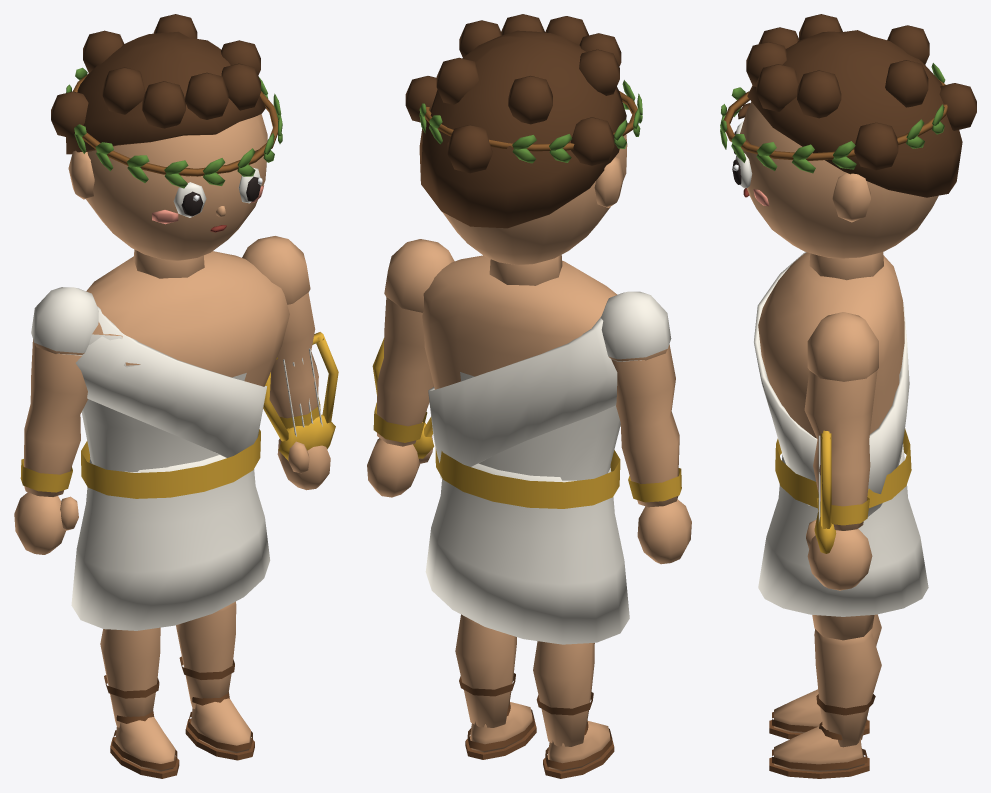
The model's file is orpheus.glb.
3 renders of one model, left to right at view 1: azimuth 30°, elevation 25°; view 2: azimuth 150°, elevation 25°; view 3: azimuth 270°, elevation 25°, orthographic. The views are drawn at different scales.
Visible parts, largest first — view 1: rumpf, huefte, haare, kopf, armL, armR, knieL, knieR, kopfschmuck, itemR, augeL, augeR; view 2: rumpf, haare, huefte, armL, armR, kopf, knieL, knieR, kopfschmuck, itemR; view 3: haare, rumpf, kopf, armR, huefte, knieR, kopfschmuck, knieL, itemR, beinR, augeR.
Boxes of the visible parts, left/top/right/bottom form: rumpf: left=75, top=251, right=289, bottom=498; huefte: left=71, top=455, right=270, bottom=630; haare: left=51, top=14, right=265, bottom=154; kopf: left=68, top=114, right=267, bottom=278; armL: left=14, top=287, right=98, bottom=554; armR: left=242, top=236, right=330, bottom=490; knieL: left=100, top=627, right=179, bottom=778; knieR: left=176, top=601, right=254, bottom=760; kopfschmuck: left=66, top=67, right=282, bottom=188; itemR: left=263, top=332, right=338, bottom=460; augeL: left=173, top=182, right=206, bottom=217; augeR: left=238, top=168, right=262, bottom=203; rumpf: left=422, top=255, right=620, bottom=508; haare: left=405, top=14, right=626, bottom=228; huefte: left=425, top=463, right=629, bottom=644; armL: left=601, top=291, right=691, bottom=564; armR: left=367, top=239, right=454, bottom=497; kopf: left=442, top=134, right=627, bottom=285; knieL: left=533, top=641, right=614, bottom=778; knieR: left=455, top=614, right=536, bottom=759; kopfschmuck: left=419, top=80, right=642, bottom=163; itemR: left=372, top=338, right=434, bottom=458; haare: left=746, top=14, right=976, bottom=197; rumpf: left=754, top=252, right=911, bottom=516; kopf: left=740, top=102, right=938, bottom=280; armR: left=804, top=312, right=878, bottom=590; huefte: left=758, top=444, right=928, bottom=616; knieR: left=769, top=629, right=881, bottom=778; kopfschmuck: left=720, top=63, right=947, bottom=173; knieL: left=769, top=614, right=881, bottom=739; itemR: left=814, top=430, right=836, bottom=553; beinR: left=812, top=615, right=874, bottom=640; augeR: left=732, top=153, right=752, bottom=188.
Size of the model in its own units: 1.07 by 2.3 by 0.7535.
